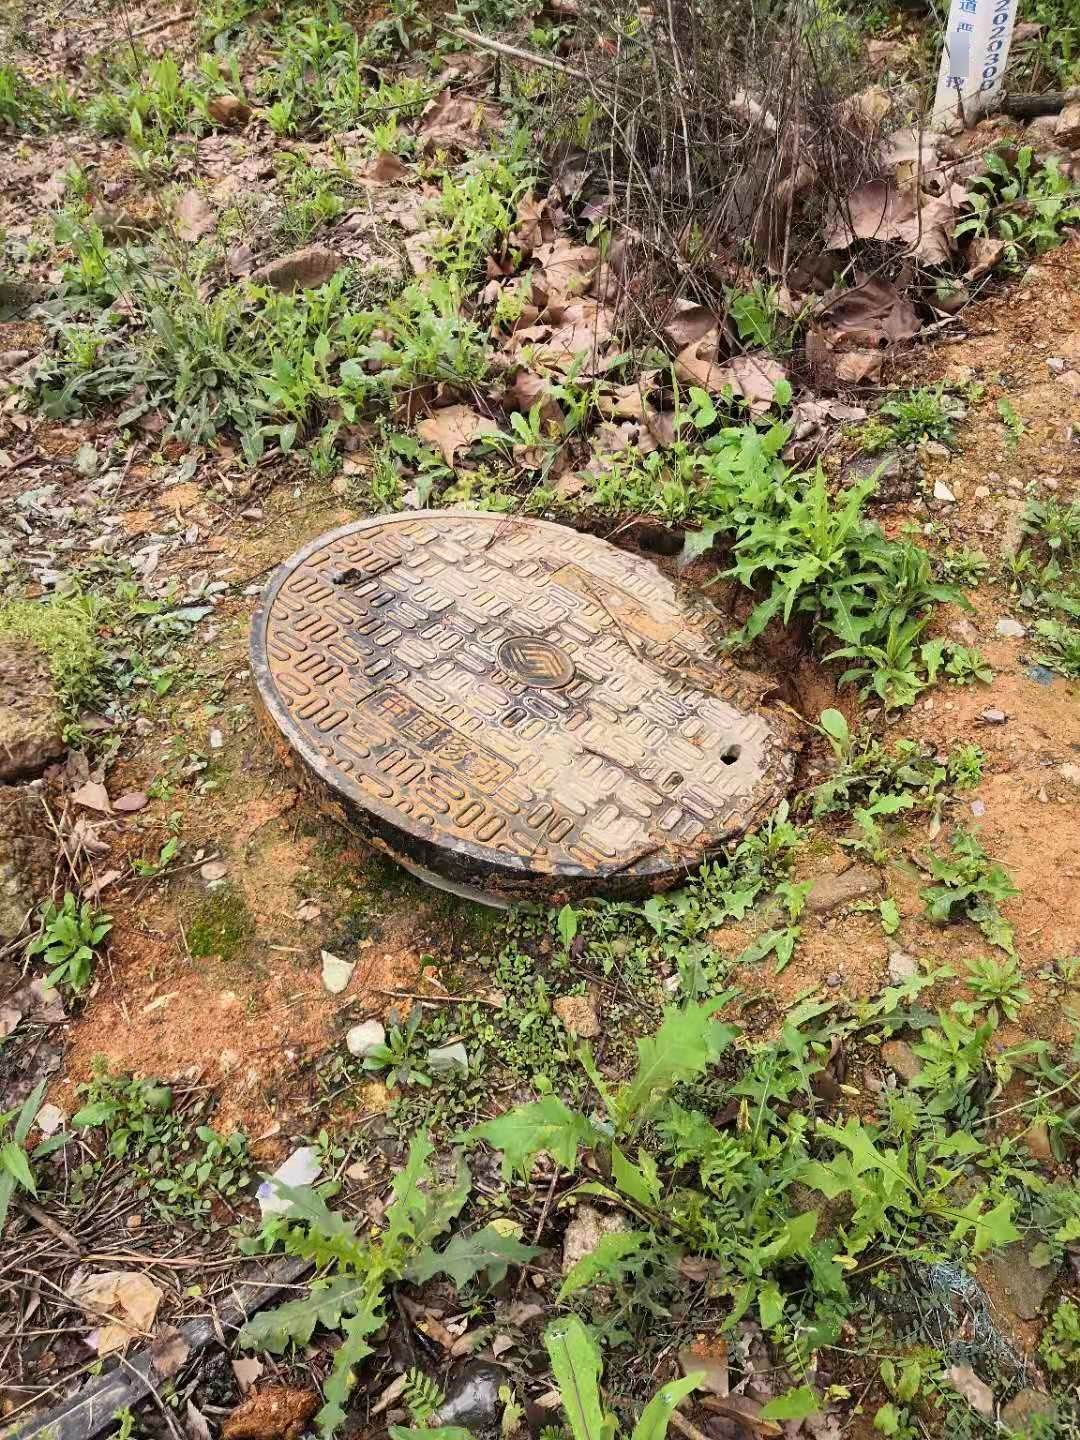well: (238, 507, 851, 917)
